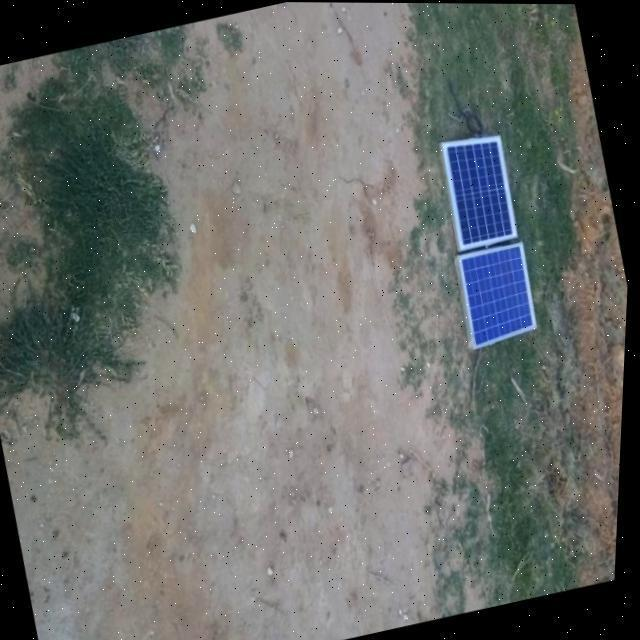Normal Solar Panel: (438, 128, 522, 248), (455, 242, 543, 347)
